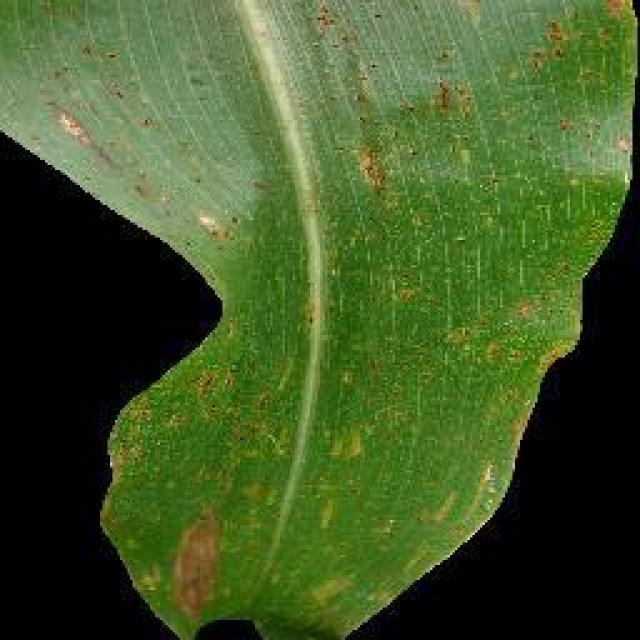Corn Common Rust: (123, 44, 547, 618)
